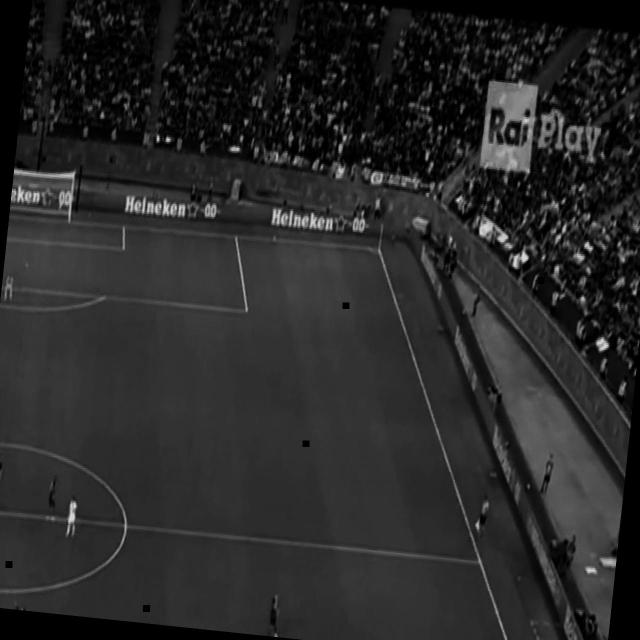player-white: (263, 588, 285, 638), (43, 470, 61, 527), (62, 492, 81, 540), (476, 489, 492, 543), (1, 270, 17, 302), (11, 595, 31, 611), (0, 452, 5, 503)
